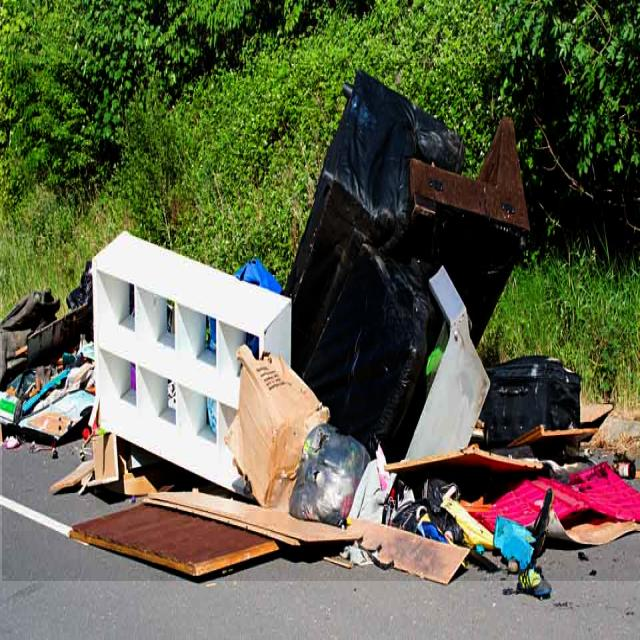dumping: (2, 63, 640, 581)
